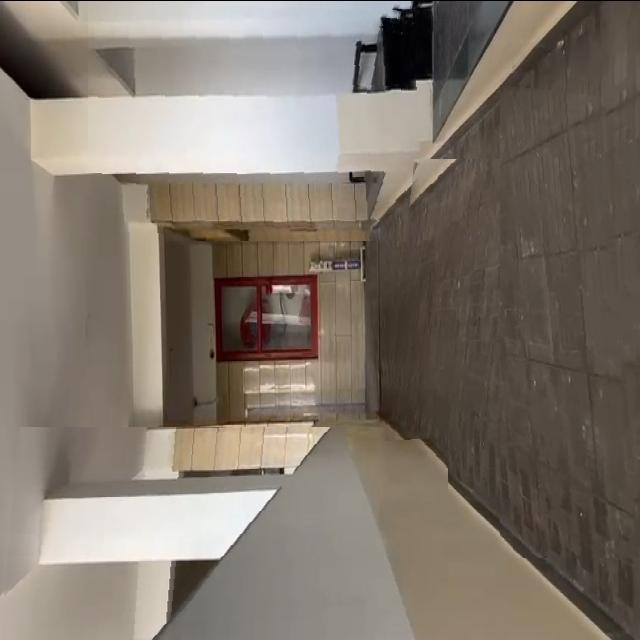floor: (500, 80, 640, 557), (385, 158, 508, 440)
wall: (0, 426, 448, 640), (88, 0, 425, 240)
